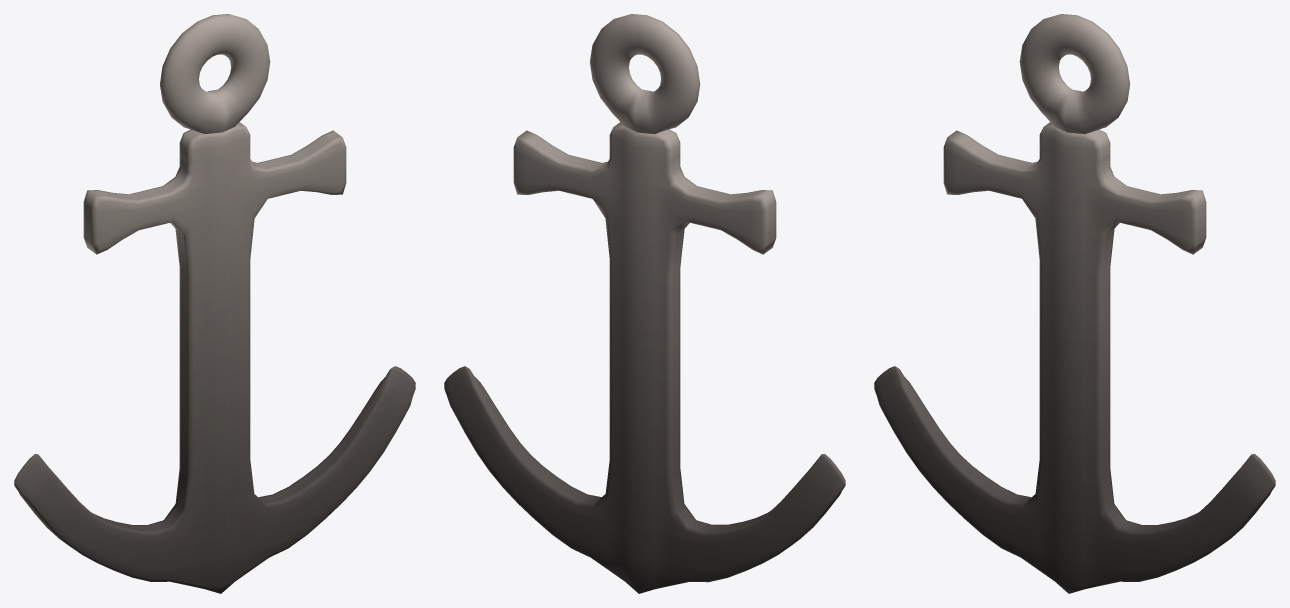
File: Ancla.fbx
3 renders of one model, left to right at view 1: azimuth 30°, elevation 25°; view 2: azimuth 150°, elevation 25°; view 3: azimuth 330°, elevation 25°, orthographic.
Parts seen in each view (by area): view 1: pCube2; view 2: pCube2; view 3: pCube2.
Boxes of the visible parts, x1,y1,x2,y2 form: pCube2: (14,14,415,593); pCube2: (444,14,845,593); pCube2: (874,14,1275,593).
Size of the model in its own units: 7.13 by 9.74 by 0.6756.
